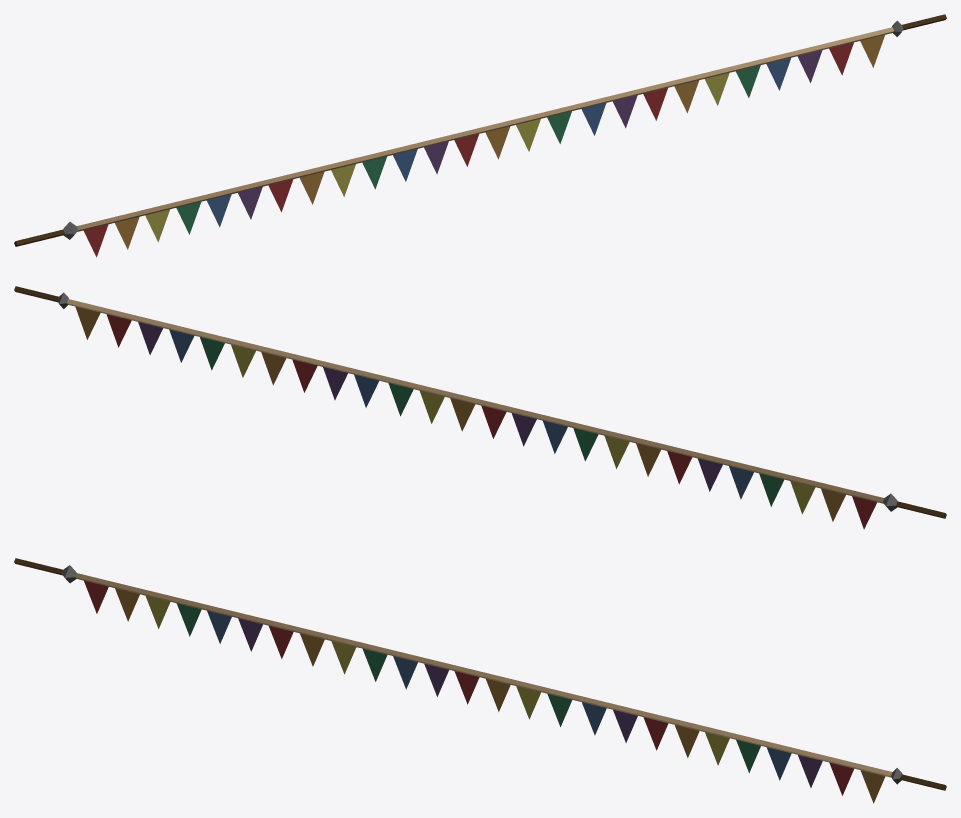
Rendered from ZLP_Build_F_15.FBX.
3 renders of one model, top to bottom at view 1: azimuth 30°, elevation 25°; view 2: azimuth 150°, elevation 25°; view 3: azimuth 330°, elevation 25°, orthographic.
Parts seen in each view (by area): view 1: ZLP_Build_F_15; view 2: ZLP_Build_F_15; view 3: ZLP_Build_F_15.
Part boxes in pixels (box(x1,y1,x2,y2)): ZLP_Build_F_15: box(14, 14, 946, 257); ZLP_Build_F_15: box(14, 286, 946, 529); ZLP_Build_F_15: box(14, 558, 946, 803).
Size of the model in its own units: 1212 by 53.45 by 23.09.
